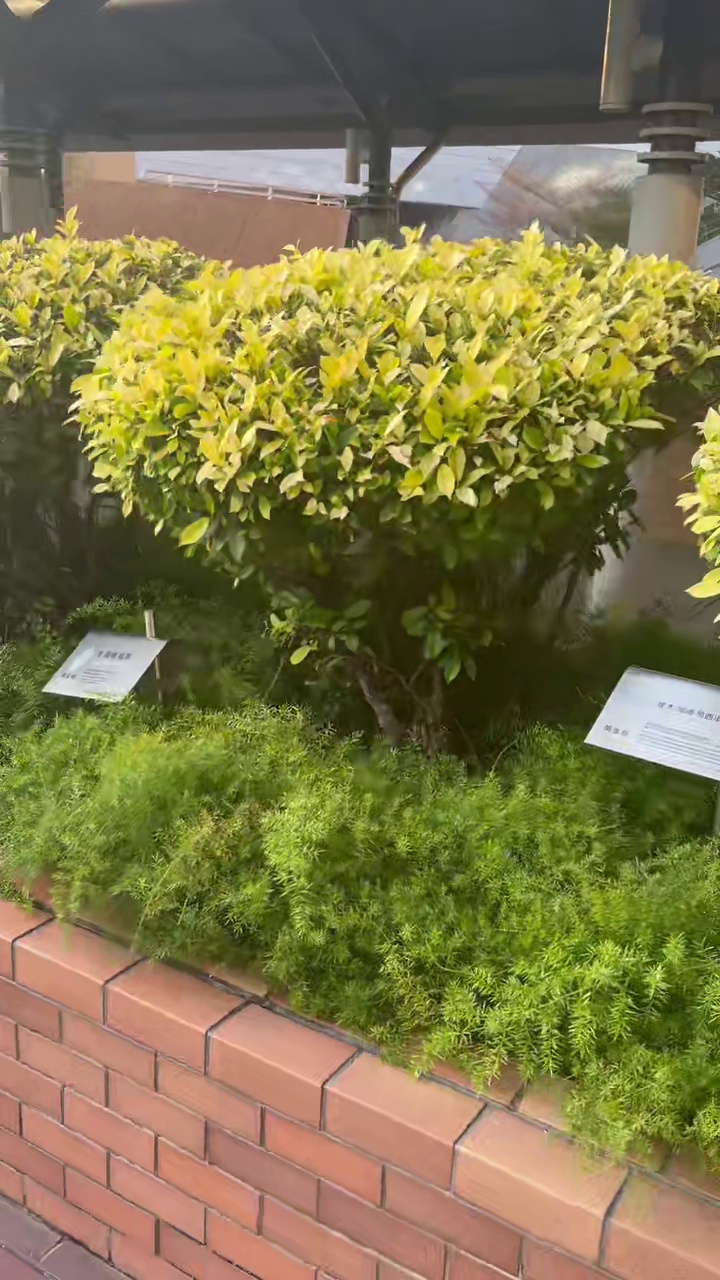Golden-leaves Fig: (74, 225, 719, 753)
